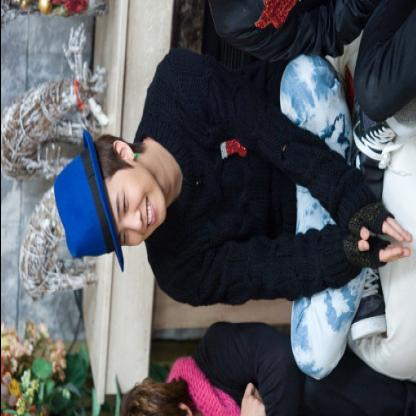hat: (52, 124, 128, 276)
